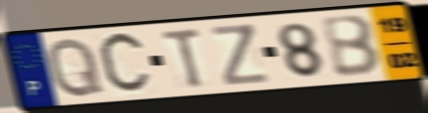8: (275, 21, 328, 79)
B: (318, 13, 385, 80)
C: (96, 28, 155, 99)
Q: (45, 35, 107, 100)
T: (159, 26, 207, 91)
Z: (208, 21, 274, 88)
